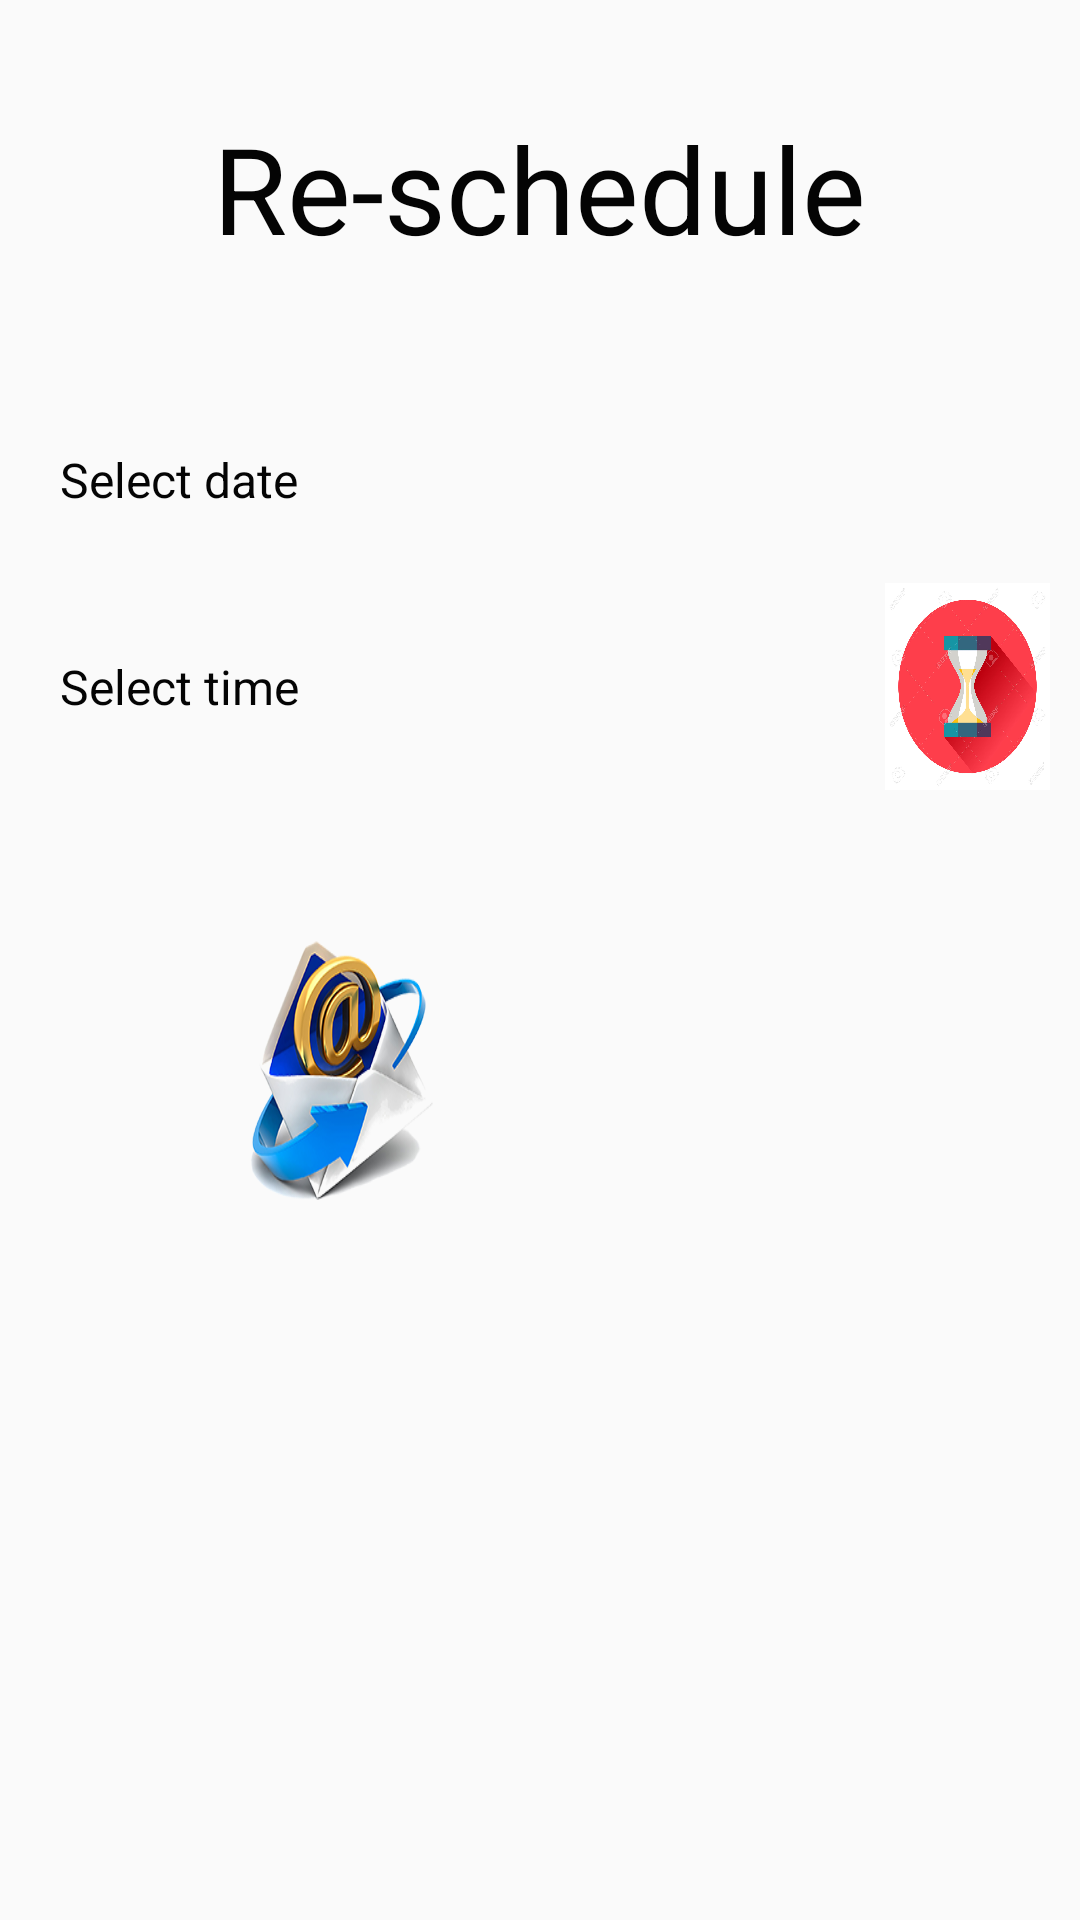

Icon bounding boxes for this 1080px x 1920px phone screenshot, format (x1, y1, x2, y2):
email: (252, 942, 426, 1200)
time: (892, 588, 1044, 783)
